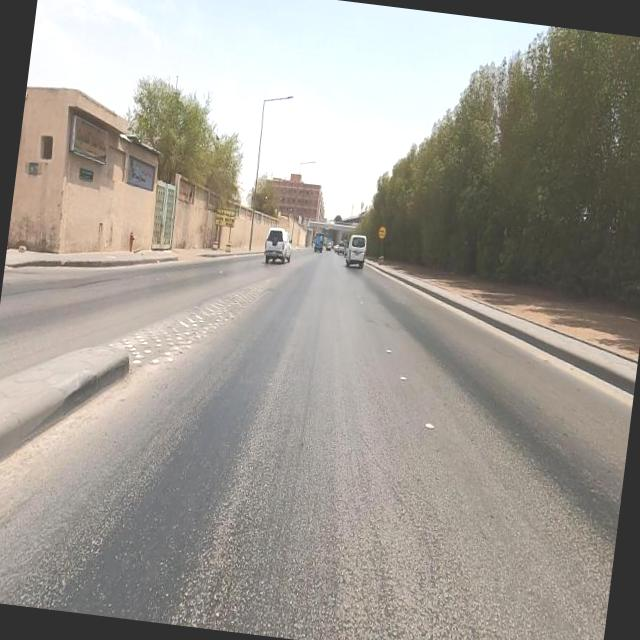debris: (198, 186, 256, 256)
